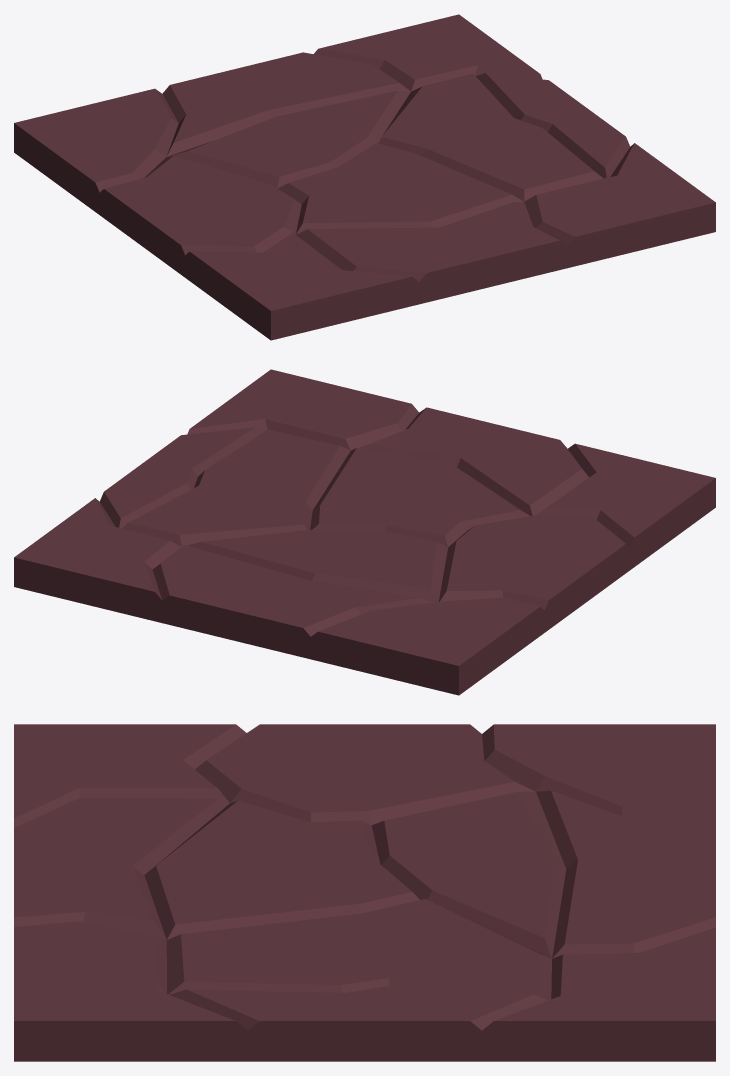
Rendered from SM_Pavement_3x3m_Empire.fbx.
The picture shows the model from 3 angles, top to bottom: view 1: azimuth 30°, elevation 25°; view 2: azimuth 150°, elevation 25°; view 3: azimuth 270°, elevation 25°; orthographic projection. The views are drawn at different scales.
Parts seen in each view (by area): view 1: SM_Pavement_3x3m_Empire; view 2: SM_Pavement_3x3m_Empire; view 3: SM_Pavement_3x3m_Empire.
Part boxes in pixels (<box>): SM_Pavement_3x3m_Empire: <box>14,14,715,340</box>; SM_Pavement_3x3m_Empire: <box>14,369,715,695</box>; SM_Pavement_3x3m_Empire: <box>14,724,715,1061</box>.
Size of the model in its own units: 3 by 0.1903 by 3.
